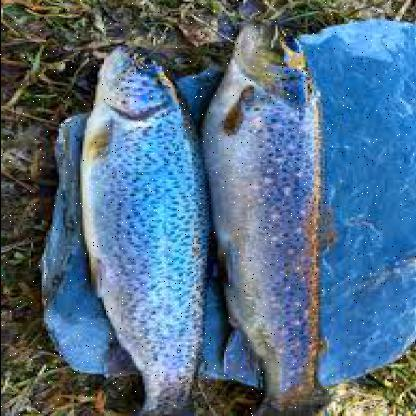fish: (205, 13, 339, 414), (72, 46, 212, 414)
